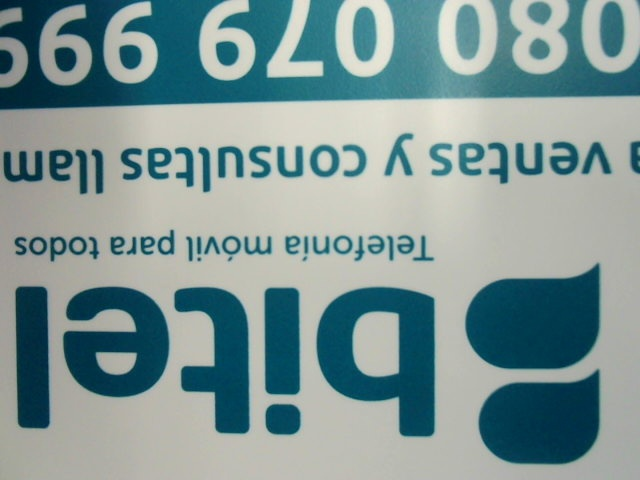BE_bitel: (13, 268, 610, 459)
